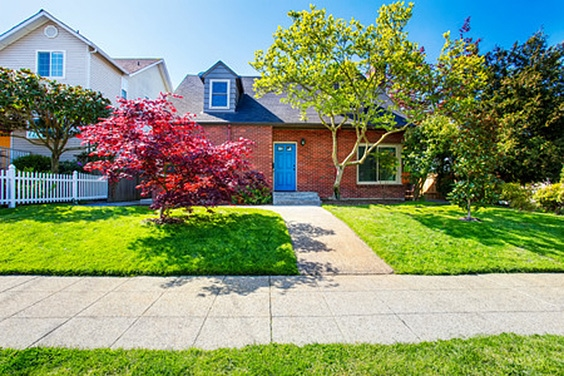tree: (249, 2, 449, 201), (81, 98, 254, 232), (2, 64, 110, 174)
